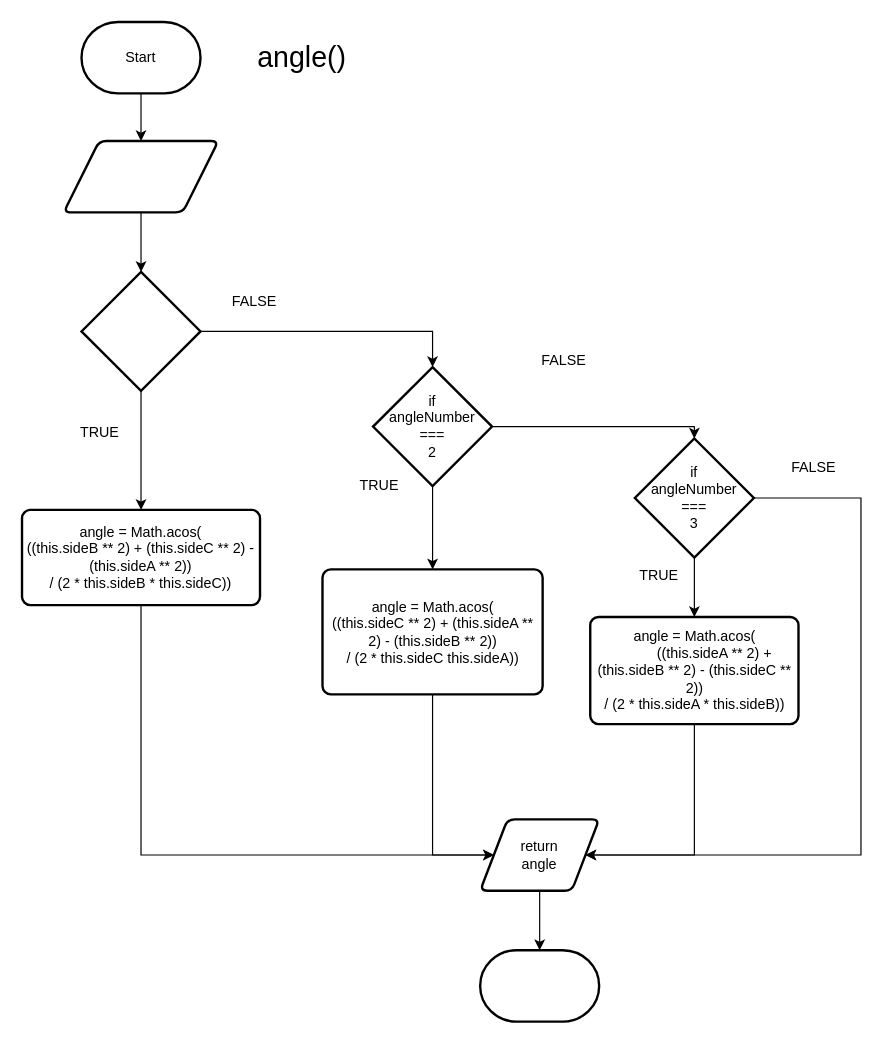
Some shapes in this 891 by 1042 pixel diagram are drawn without their labels. The centre of each missing label's shape, as x and y in pixels:
"Get angleNumber" goes at (140,176).
"if angleNumber === 1" goes at (140,331).
"Stop" goes at (539,985).
